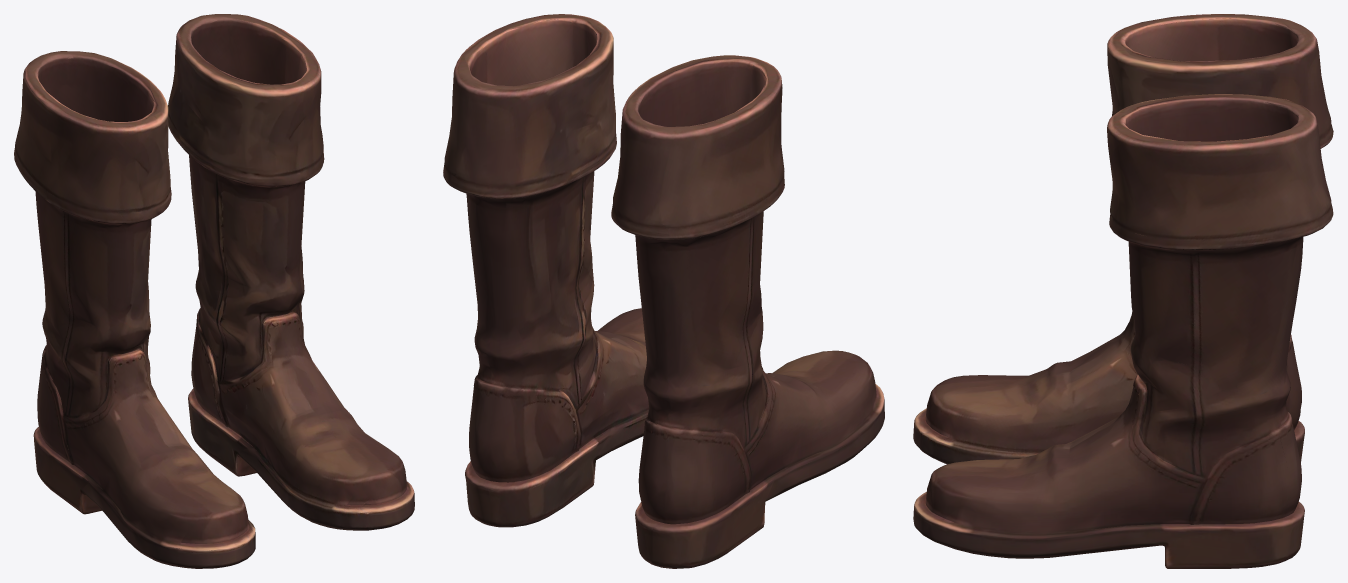
File: warrior_m_boots.glb
3 renders of one model, left to right at view 1: azimuth 30°, elevation 25°; view 2: azimuth 150°, elevation 25°; view 3: azimuth 270°, elevation 25°, orthographic. The views are drawn at different scales.
Parts seen in each view (by area): view 1: model; view 2: model; view 3: model.
Part boxes in pixels (x1,y1,x2,y2): model: (14,14,414,568); model: (443,14,884,568); model: (913,14,1333,568).
Size of the model in its own units: 0.3098 by 0.458 by 0.3997.
Materials: 1 (1 with a texture image).
